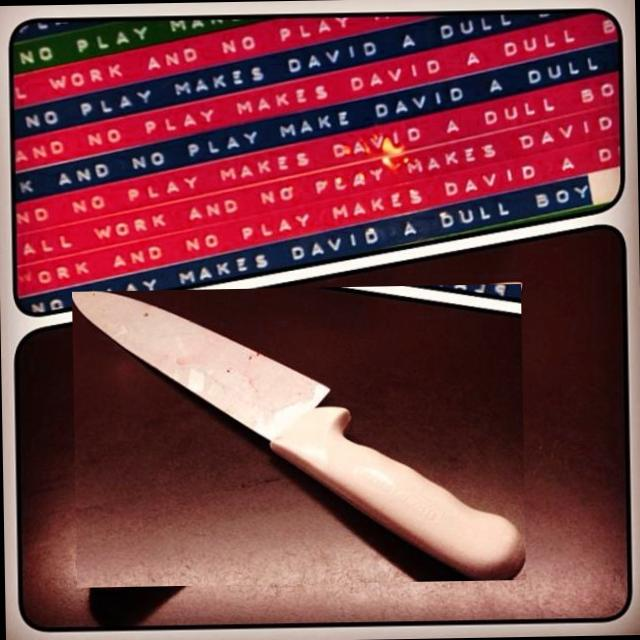Knife: (72, 291, 525, 580)
